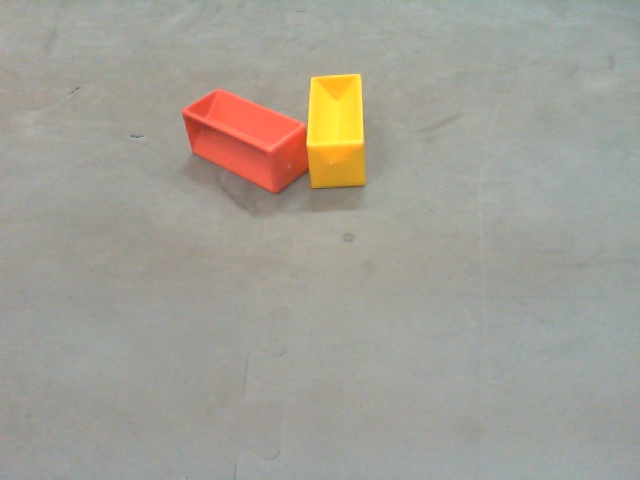RedSample: (185, 90, 308, 190)
YellowSample: (303, 71, 367, 190)
